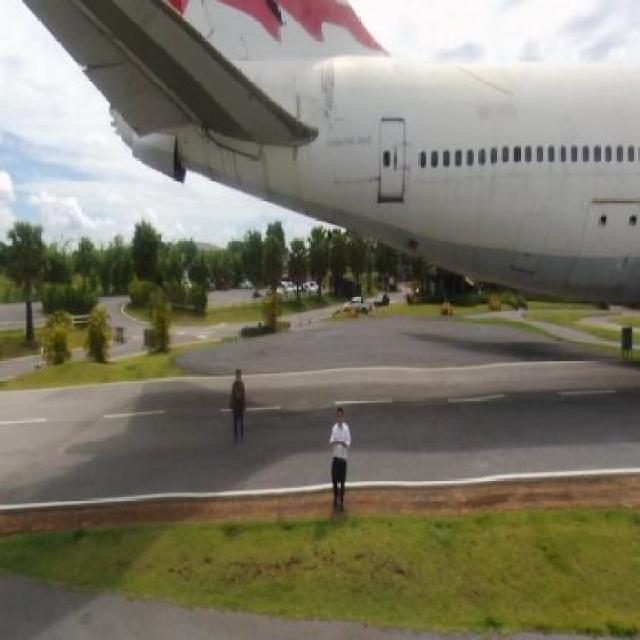Rust: (194, 126, 248, 194), (253, 57, 318, 103), (290, 144, 330, 218), (312, 52, 339, 131), (586, 181, 640, 217), (257, 140, 281, 212)
Scartch: (476, 85, 530, 137), (328, 166, 394, 194)
